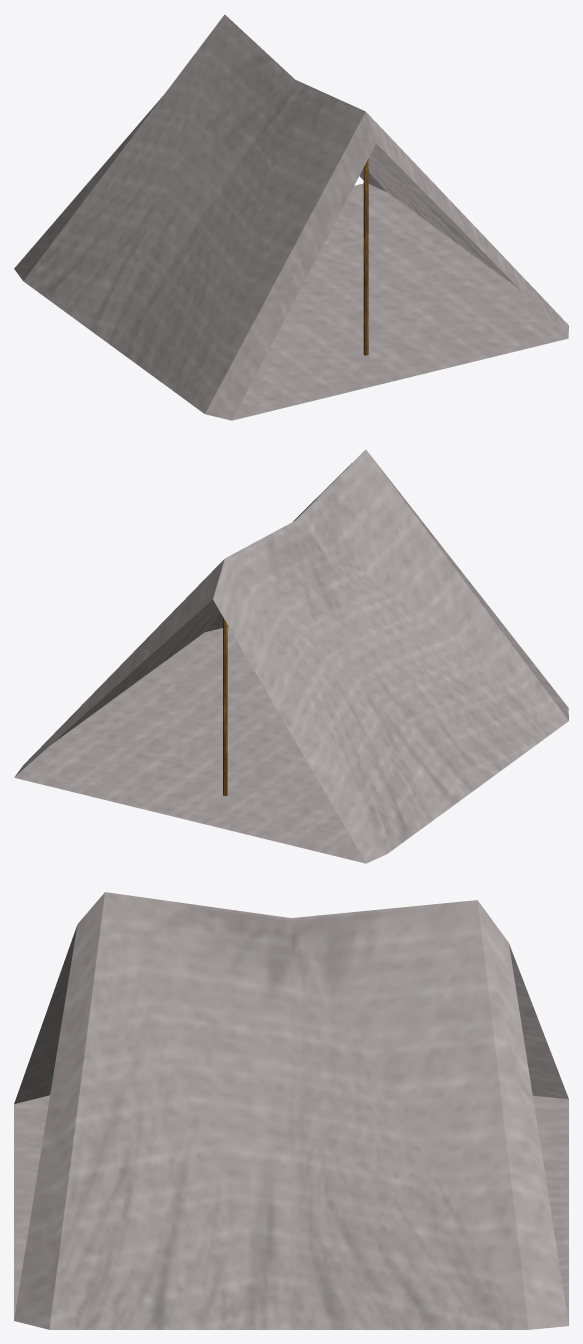
Rendered from MKU_tent_fest_fin.fbx.
3 views of the same model, one above another, from view 1: azimuth 30°, elevation 25°; view 2: azimuth 150°, elevation 25°; view 3: azimuth 270°, elevation 25° (orthographic). The views are drawn at different scales.
Parts seen in each view (by area): view 1: Cube, Cylinder; view 2: Cube, Cylinder; view 3: Cube.
Boxes of the visible parts, <box> form: Cube: <box>14,14,568,420</box>; Cylinder: <box>363,158,368,355</box>; Cube: <box>14,449,568,863</box>; Cylinder: <box>223,617,227,795</box>; Cube: <box>14,892,568,1329</box>.
Bounding box in the file's own units: 898 × 573 × 898.
